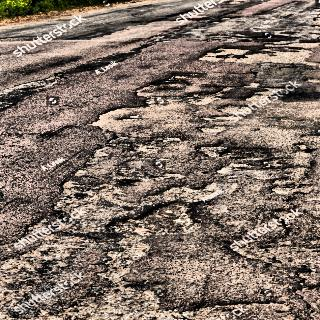pothole: (56, 110, 184, 198), (196, 140, 304, 202), (105, 202, 218, 248), (198, 37, 320, 70), (143, 77, 238, 113), (243, 74, 320, 112), (192, 113, 250, 137), (310, 14, 320, 32)
